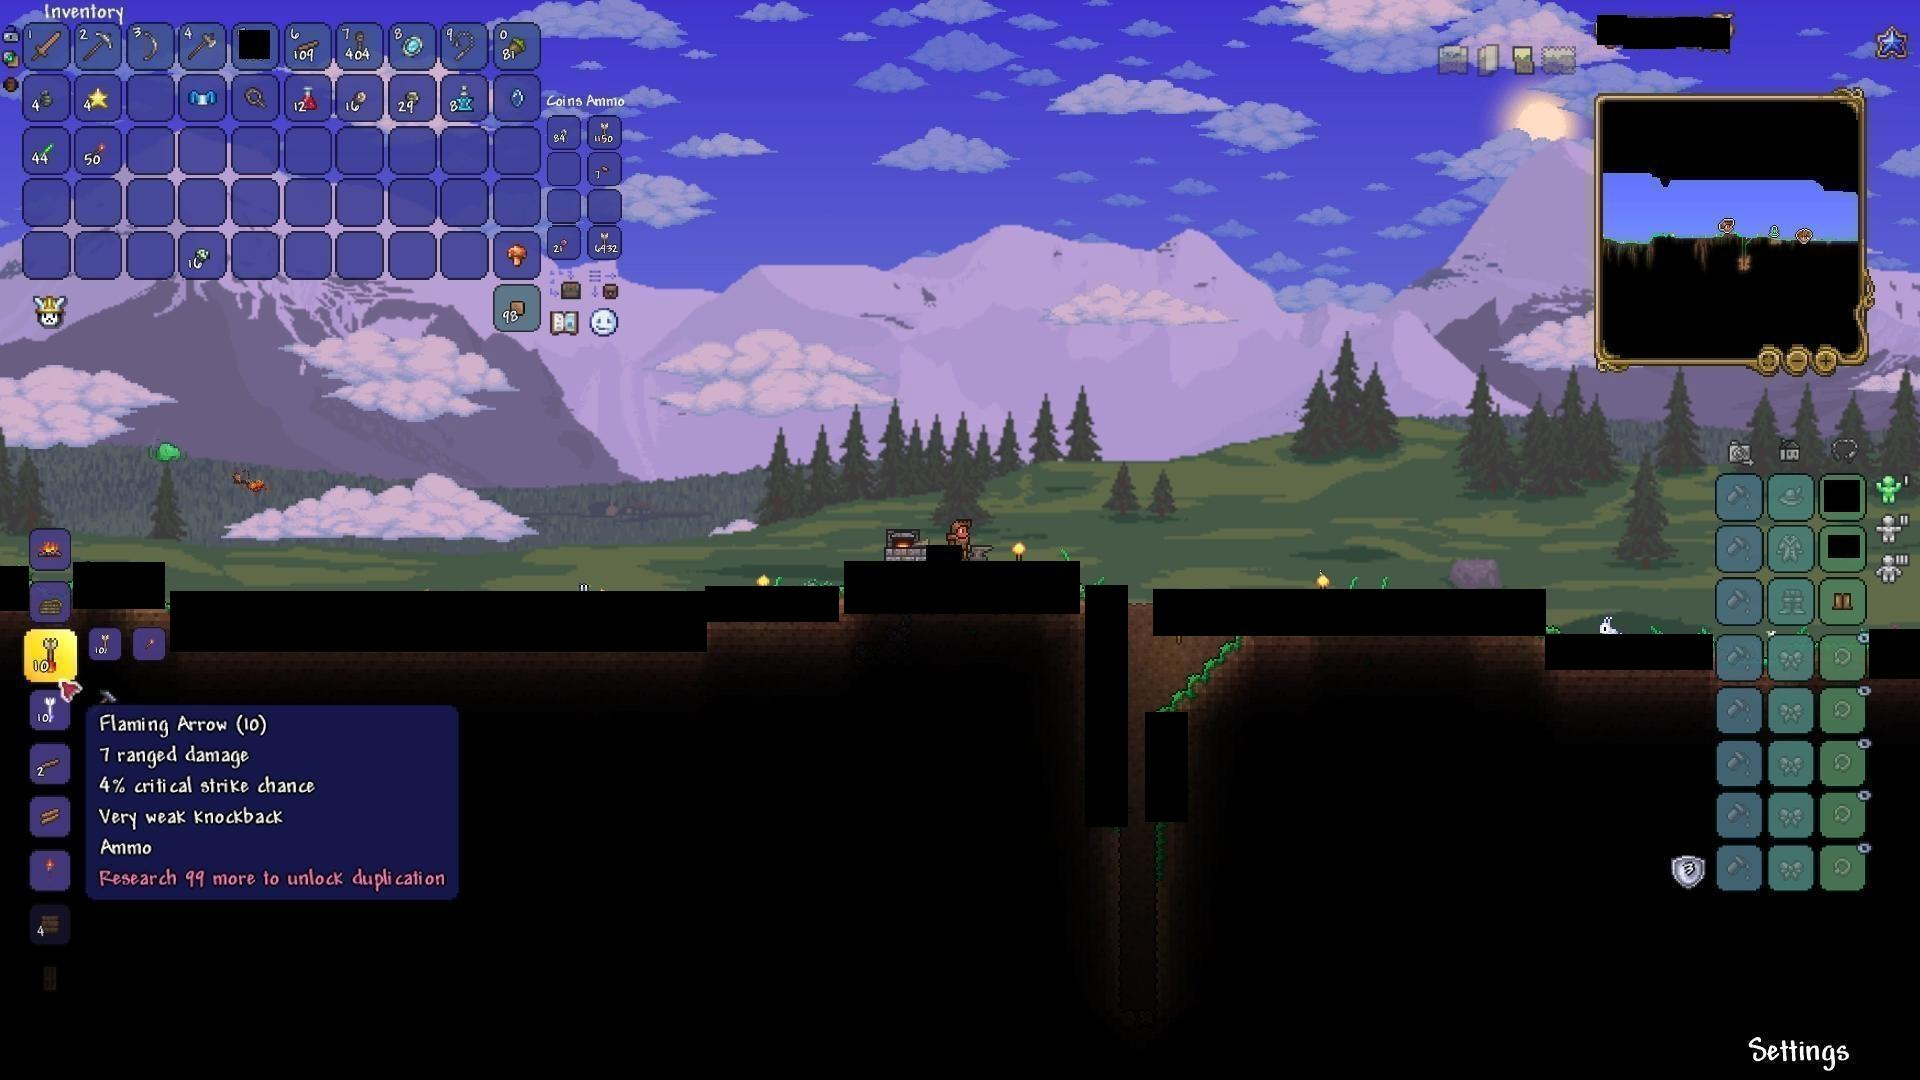dirt: (1149, 640, 1244, 712)
legs: (1832, 587, 1857, 617)
slime: (154, 440, 179, 465)
wood: (36, 804, 66, 832)
